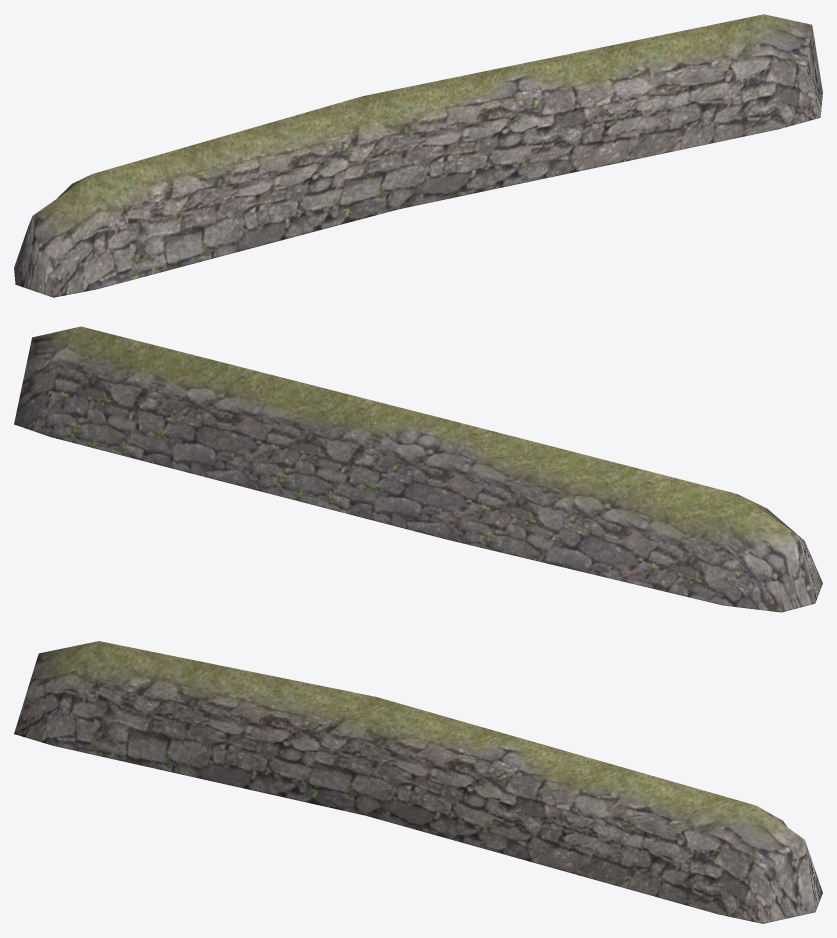
File: rock_wall_small.FBX
The picture shows the model from 3 angles, top to bottom: view 1: azimuth 30°, elevation 25°; view 2: azimuth 150°, elevation 25°; view 3: azimuth 330°, elevation 25°; orthographic projection.
Parts seen in each view (by area): view 1: Box001; view 2: Box001; view 3: Box001.
Part boxes in pixels (box(x1,y1,x2,y2)): Box001: box(14, 14, 822, 297); Box001: box(14, 326, 822, 612); Box001: box(14, 641, 822, 923).
Size of the model in its own units: 85.95 by 10.82 by 10.15.
